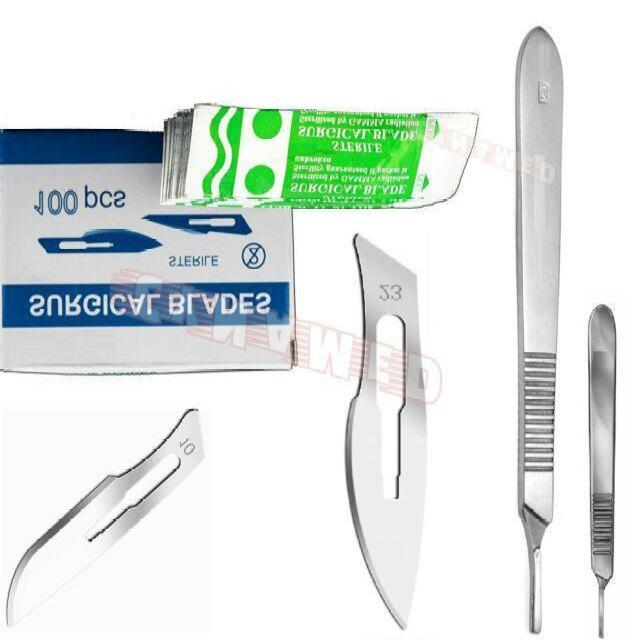Scalpel: (2, 407, 208, 632), (340, 231, 430, 633), (511, 23, 565, 637), (584, 301, 619, 640)
